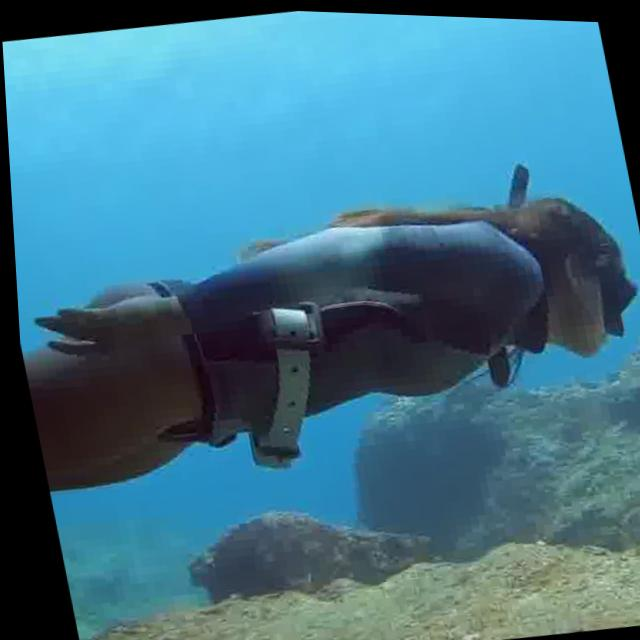human: (6, 131, 640, 531)
